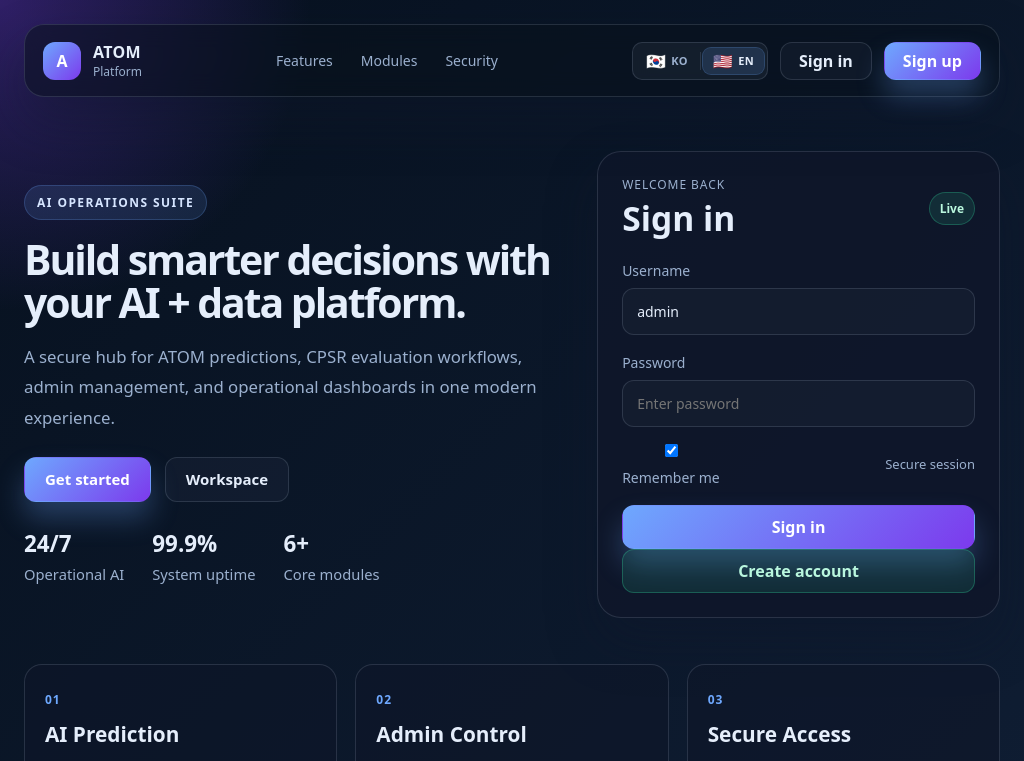
Scenario: login UI › shows an authentication error without redirecting
The width and height of the screenshot is (1024, 761).
Type "password" into the password field with placeholder "Enter password" at (799, 404), box [622, 380, 975, 427]
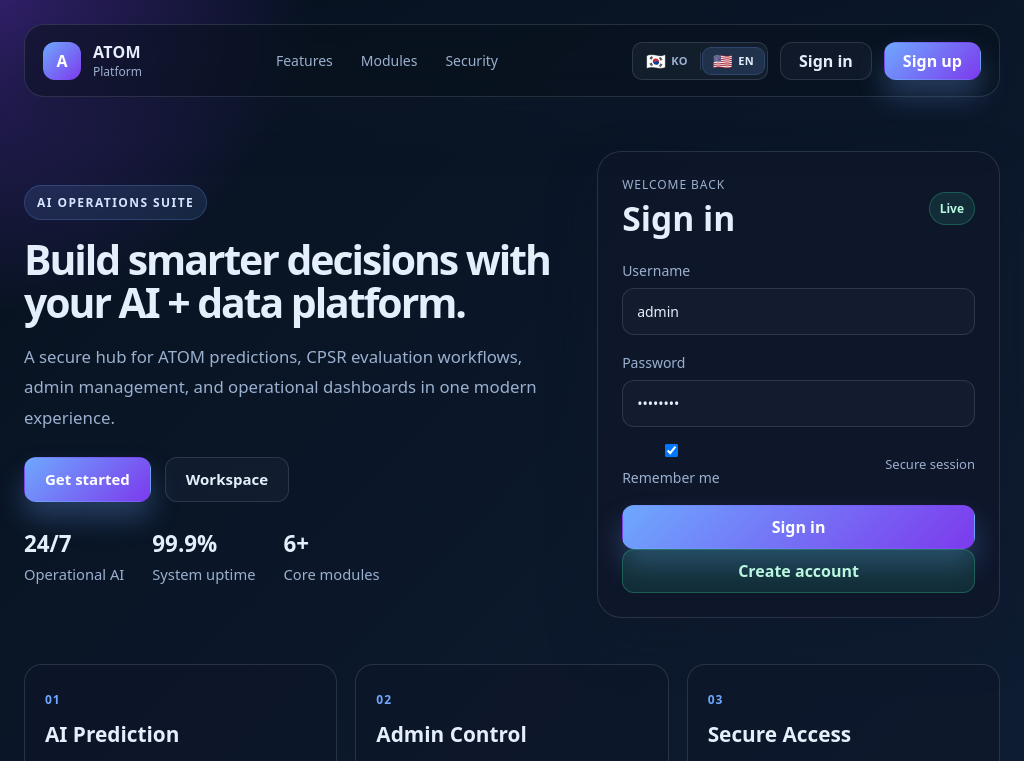
Click the button "Sign in" at (799, 527), box [622, 505, 975, 549]
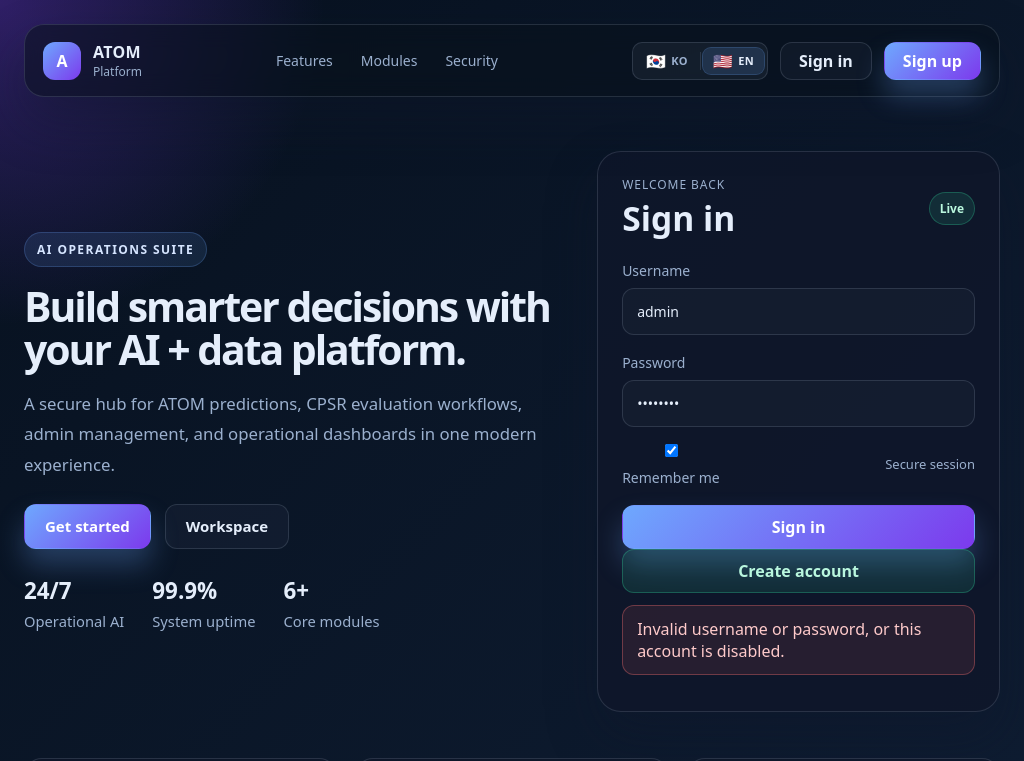
Expected: the message reads "Invalid username or password, or this account is disabled.", [637, 618, 921, 662]
